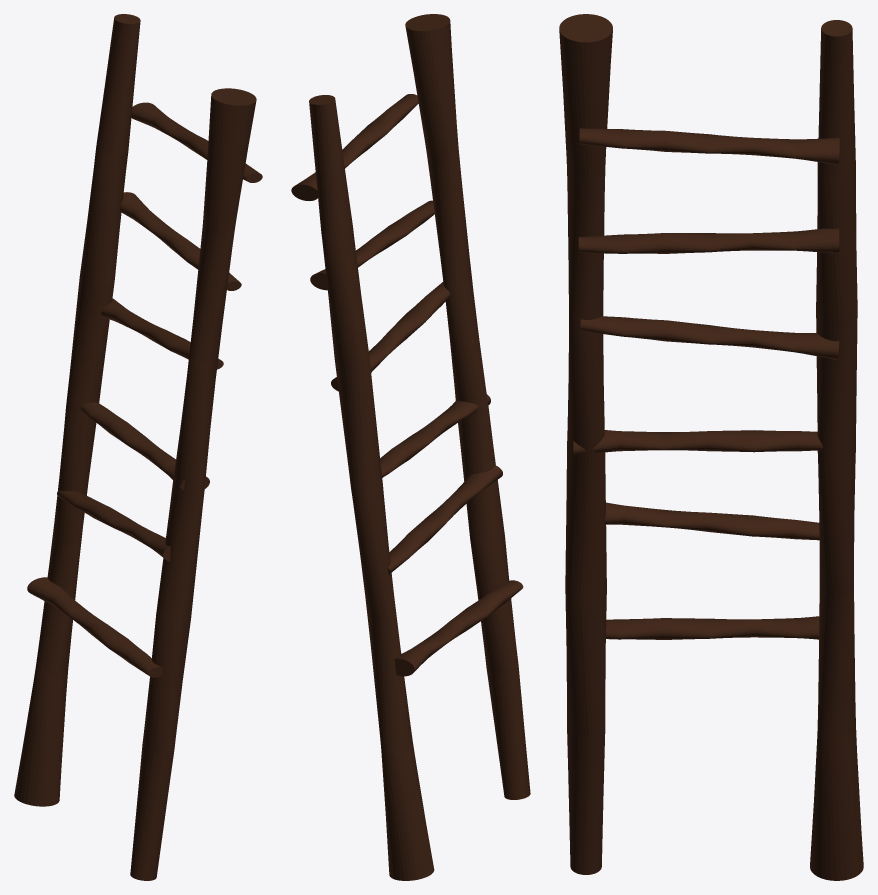
Rendered from Escalera_2.001.fbx.
The picture shows the model from 3 angles, left to right: view 1: azimuth 30°, elevation 25°; view 2: azimuth 150°, elevation 25°; view 3: azimuth 270°, elevation 25°; orthographic projection. The views are drawn at different scales.
Visible parts, largest first — view 1: Escalera_2.001; view 2: Escalera_2.001; view 3: Escalera_2.001.
Part boxes in pixels (box(x1,y1,x2,y2)): Escalera_2.001: box(14, 14, 262, 880); Escalera_2.001: box(291, 14, 530, 880); Escalera_2.001: box(559, 14, 863, 880).
Bounding box in the file's own units: 62.55 × 325 × 100.
